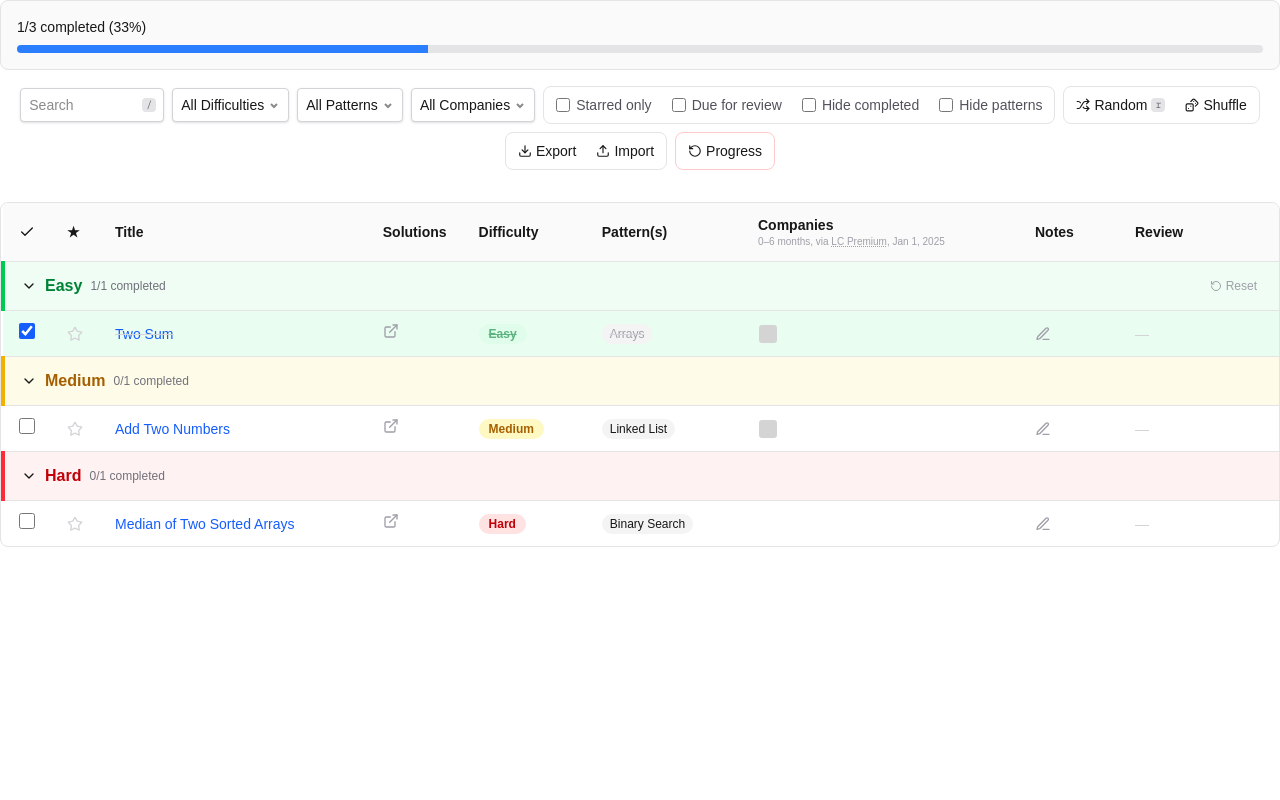
Test: QuestionsTable analytics › progress bar updates when hide completed is toggled
Check: the text "1/3 completed (33%)" is shown, box [17,17,146,37]
# Toggle hide completed
Click the checkbox labelled "Hide completed" at (809, 105), box [802,98,816,112]
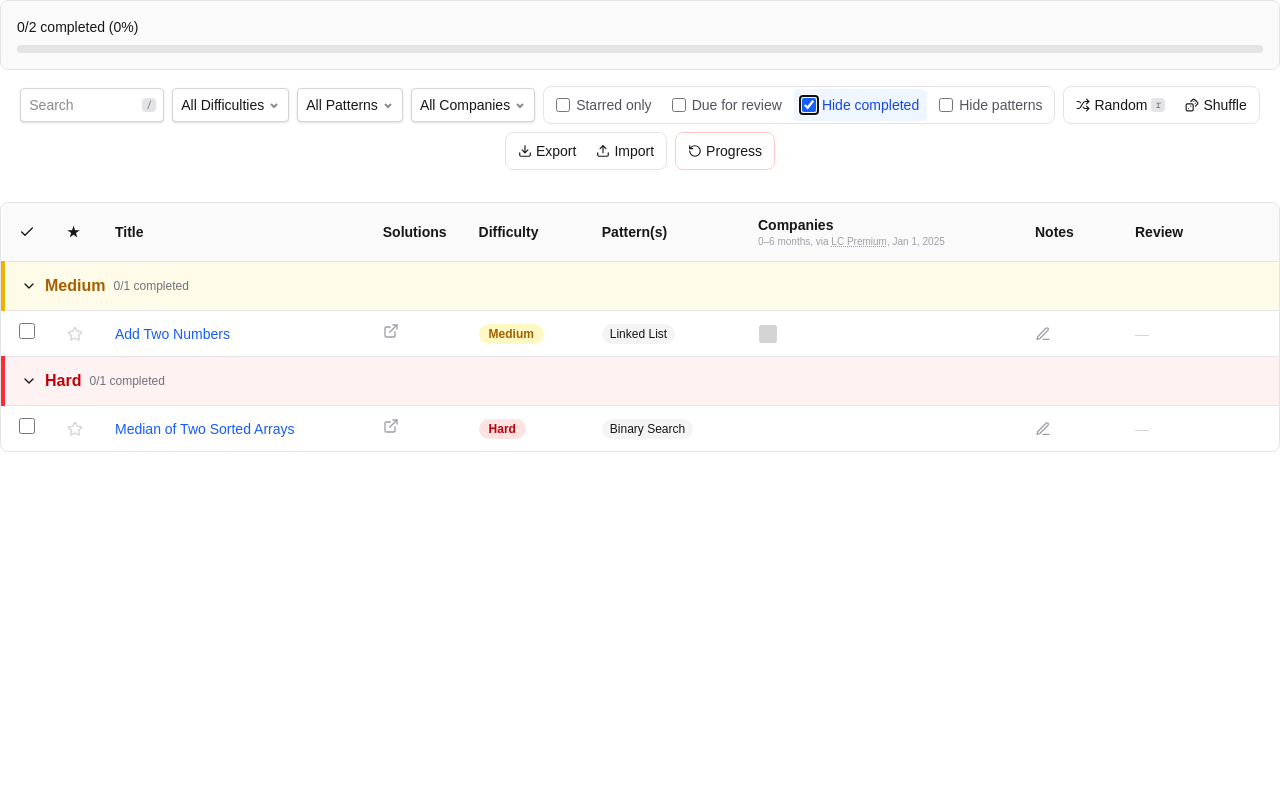
Check: the link "Two Sum" is gone
Check: the text "0/2 completed (0%)" is shown, box [17,17,138,37]
